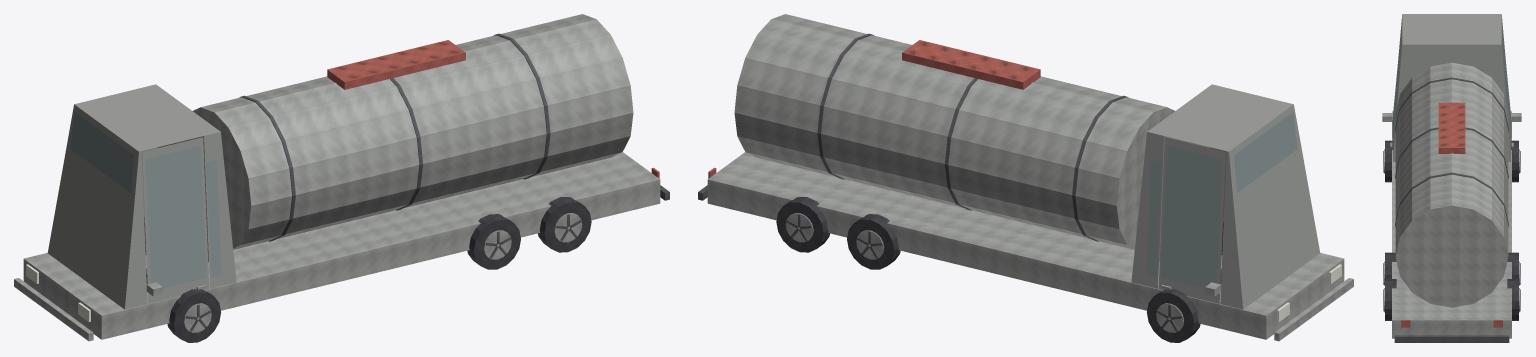
Rendered from vehicle_fuel_tanker.glb.
3 renders of one model, left to right at view 1: azimuth 30°, elevation 25°; view 2: azimuth 150°, elevation 25°; view 3: azimuth 270°, elevation 25°, orthographic. The views are drawn at different scales.
Visible parts, largest first — view 1: body_panel.009, door_mirror.019, hub.043, hub.041, hub.039; view 2: body_panel.009, door_mirror.018, hub.042, hub.040, hub.038; view 3: body_panel.009, door_mirror.018, door_mirror.019, hub.040, hub.041, hub.038, hub.039, hub.042, hub.043.
Boxes of the visible parts, left/top/right/bottom form: body_panel.009: left=14, top=14, right=669, bottom=341; door_mirror.019: left=142, top=137, right=209, bottom=303; hub.043: left=467, top=214, right=520, bottom=269; hub.041: left=538, top=197, right=591, bottom=252; hub.039: left=167, top=289, right=220, bottom=342; body_panel.009: left=698, top=14, right=1353, bottom=341; door_mirror.018: left=1158, top=137, right=1225, bottom=303; hub.042: left=847, top=214, right=900, bottom=269; hub.040: left=776, top=197, right=829, bottom=252; hub.038: left=1147, top=289, right=1200, bottom=342; body_panel.009: left=1392, top=14, right=1511, bottom=342; door_mirror.018: left=1501, top=17, right=1521, bottom=147; door_mirror.019: left=1382, top=17, right=1402, bottom=147; hub.040: left=1507, top=279, right=1520, bottom=320; hub.041: left=1383, top=279, right=1396, bottom=320; hub.038: left=1510, top=140, right=1520, bottom=182; hub.039: left=1383, top=140, right=1393, bottom=182; hub.042: left=1507, top=252, right=1520, bottom=285; hub.043: left=1383, top=252, right=1396, bottom=285.
Size of the model in its own units: 9.59 by 3.06 by 2.6.
6 materials, 6 textured.
